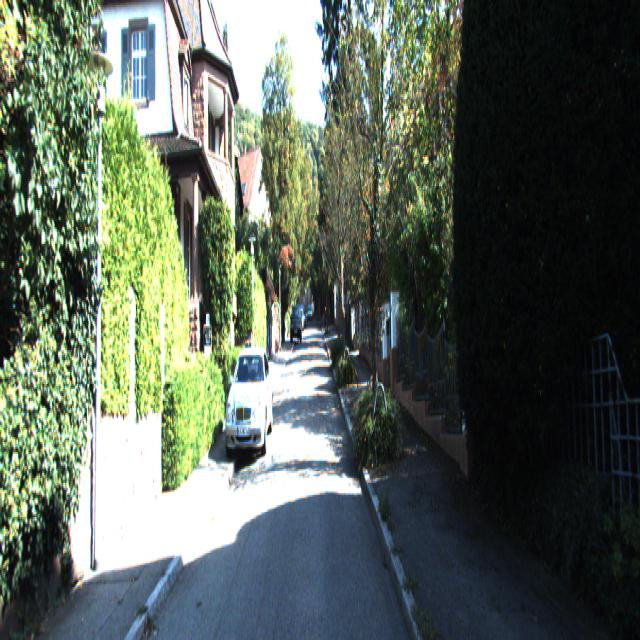Car: (224, 343, 273, 468), (290, 304, 302, 345)
